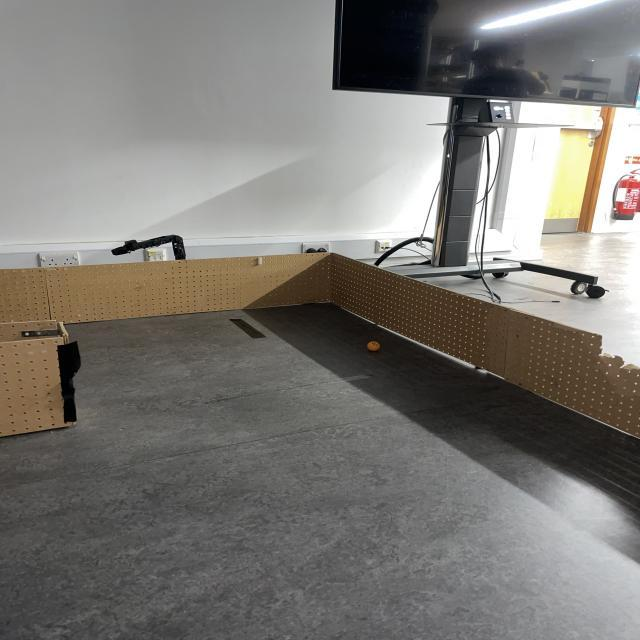oball: (368, 342, 380, 351)
